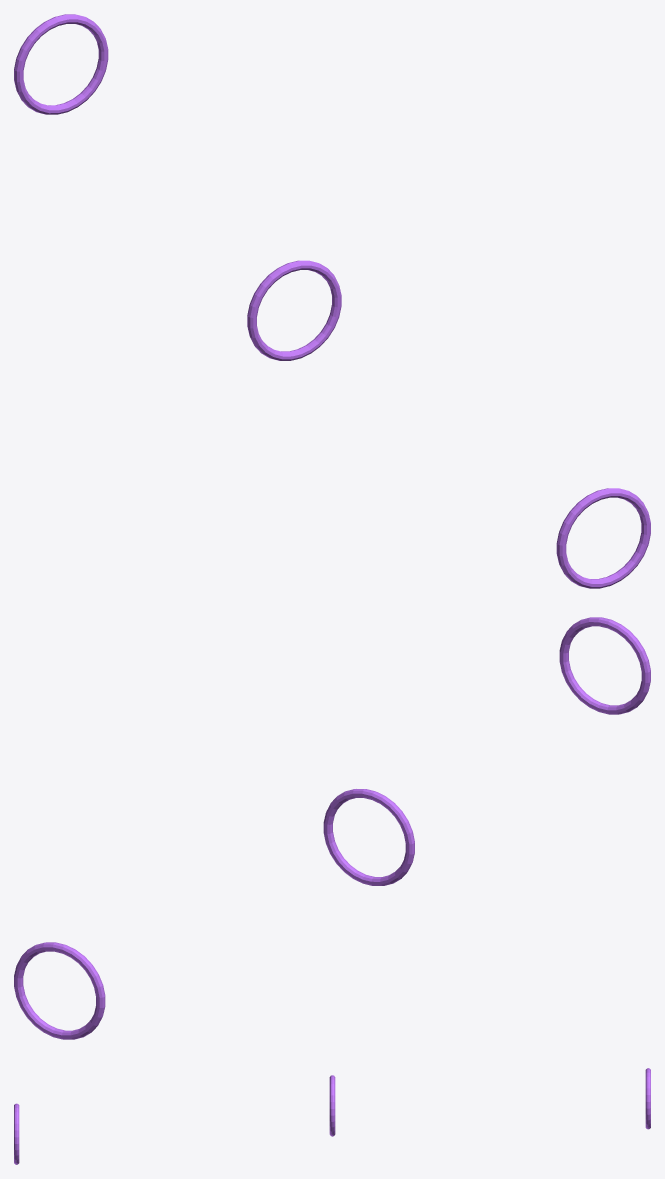
The model's file is cielo-alto_Aros.glb.
3 renders of one model, top to bottom at view 1: azimuth 30°, elevation 25°; view 2: azimuth 150°, elevation 25°; view 3: azimuth 270°, elevation 25°, orthographic. The views are drawn at different scales.
Visible parts, largest first — view 1: Mapa_cielo_alto_Aros; view 2: Mapa_cielo_alto_Aros; view 3: Mapa_cielo_alto_Aros.
Part boxes in pixels (x1,y1,x2,y2): Mapa_cielo_alto_Aros: (14, 14, 650, 588); Mapa_cielo_alto_Aros: (14, 617, 650, 1039); Mapa_cielo_alto_Aros: (14, 1068, 650, 1164).
Bounding box in the file's own units: 25.58 × 29.49 × 182.
1 material, 1 textured.
